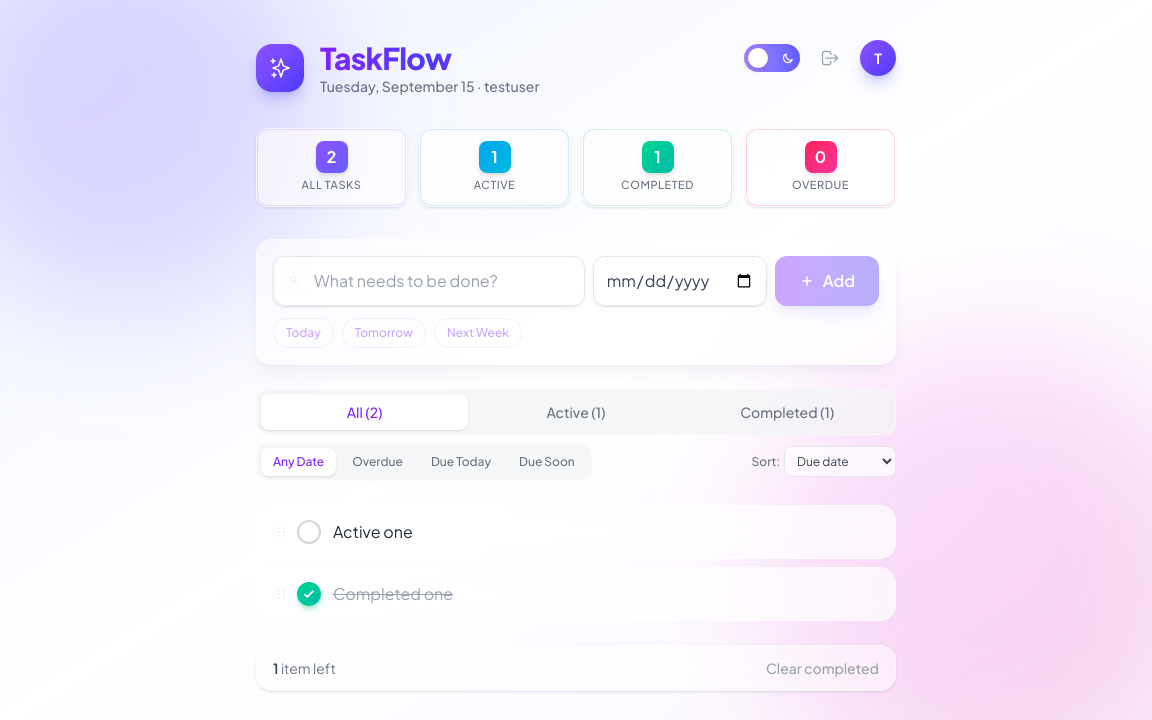
Test case: TodoApp › filters › filters by Completed
Expected: the text "Active one" is shown, [333,520,413,542]
Click the button "Completed (1)" at coordinates (787, 412), box [684,394,891,430]
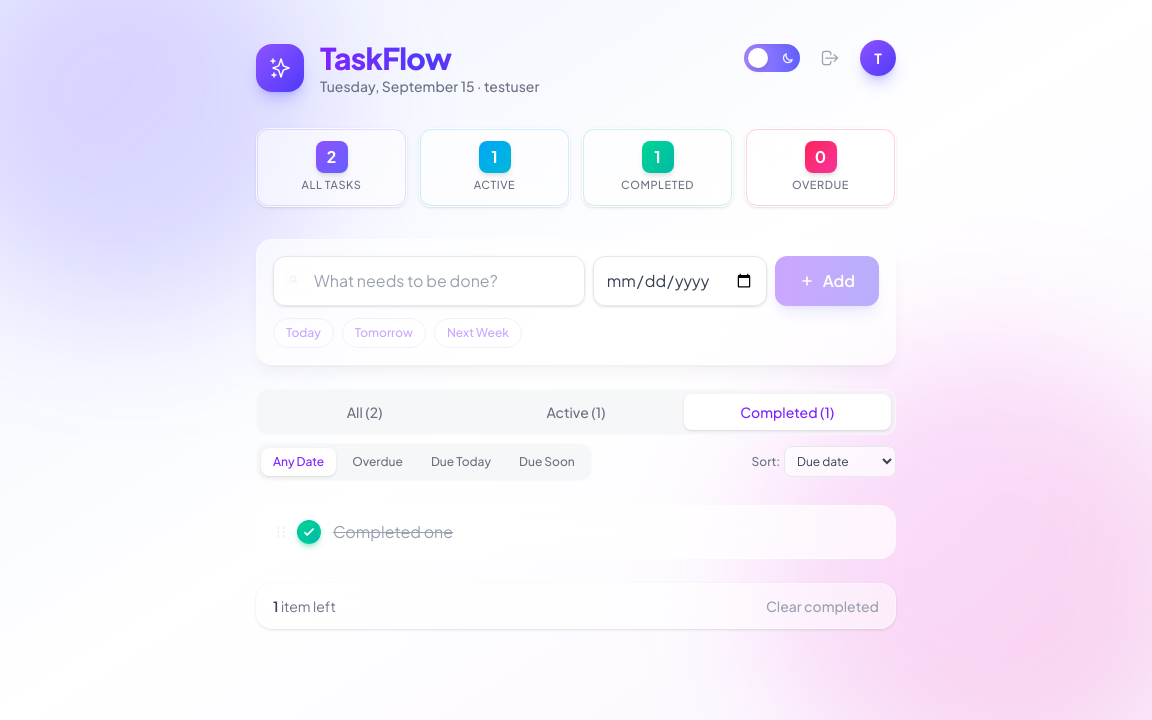
Expected: the text "Completed one" is shown, [333,520,453,542]
Expected: the text "Active one" is gone
